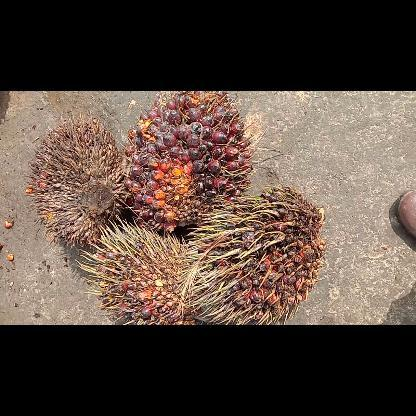Kurang masak: (204, 186, 324, 324)
TBS abnormal: (28, 115, 126, 248), (82, 216, 202, 324)
Terlalu masak: (124, 90, 252, 232)
